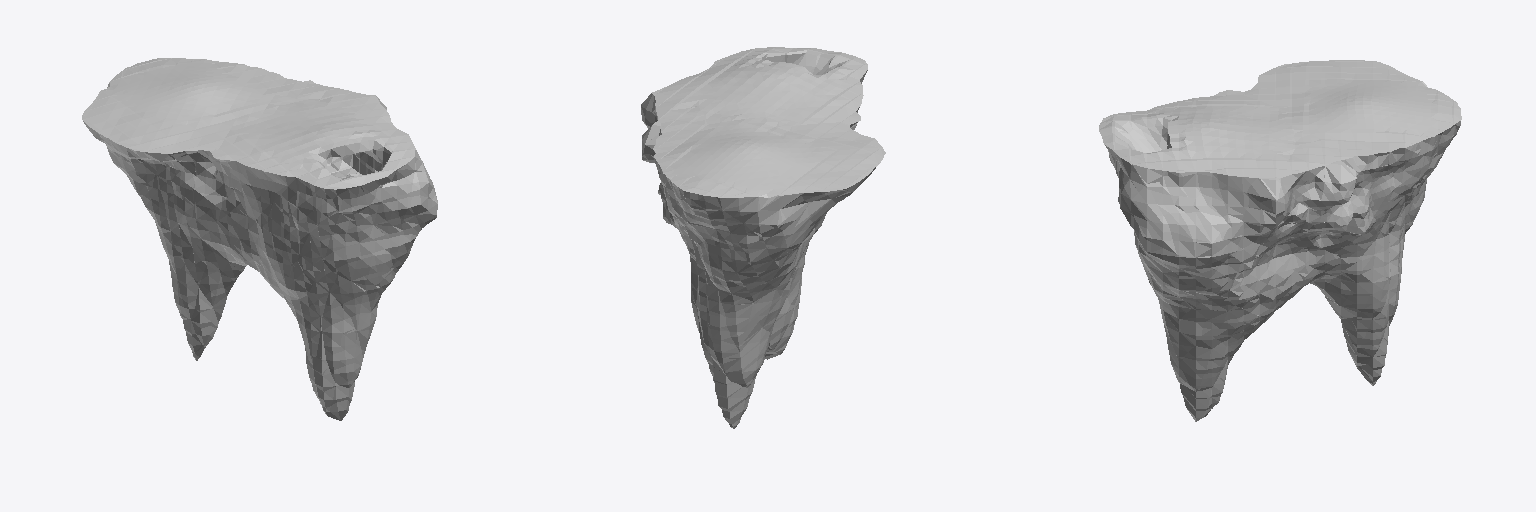
File: Island Large.obj
The picture shows the model from 3 angles: view 1: azimuth 30°, elevation 25°; view 2: azimuth 150°, elevation 25°; view 3: azimuth 270°, elevation 25°; orthographic projection.
Parts seen in each view (by area): view 1: Mesh; view 2: Mesh; view 3: Mesh.
Part boxes in pixels (bbox=[...]): Mesh: bbox=[82, 58, 437, 420]; Mesh: bbox=[641, 47, 885, 428]; Mesh: bbox=[1099, 60, 1461, 421].
Size of the model in its own units: 18.46 by 19.85 by 22.52.